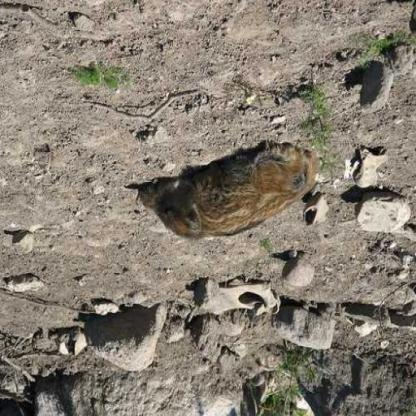boar: (137, 127, 312, 307)
